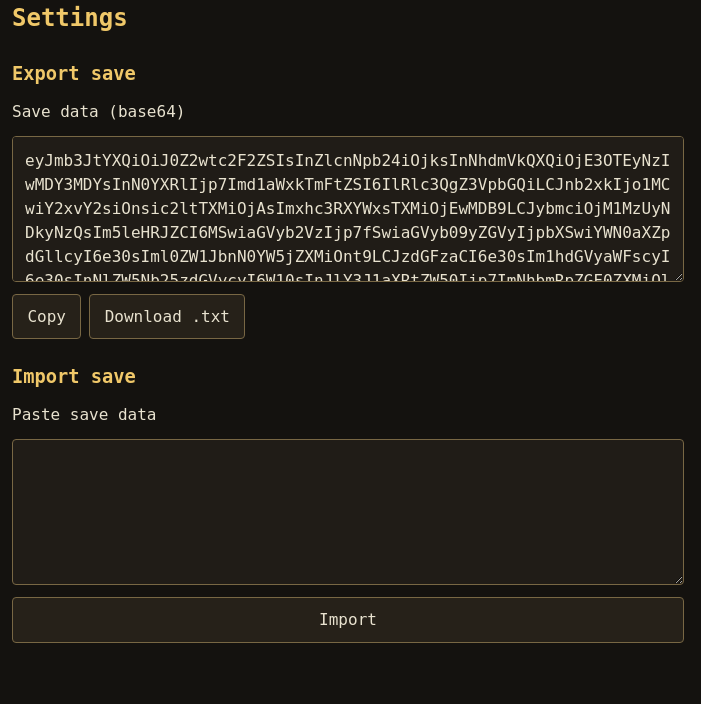
it: App › reports an invalid import without changing the current game
The width and height of the screenshot is (701, 704).
Type "invalid save" into the text box labelled "Paste save data". click: coordinates (348, 512)
box: [12,439,684,585]
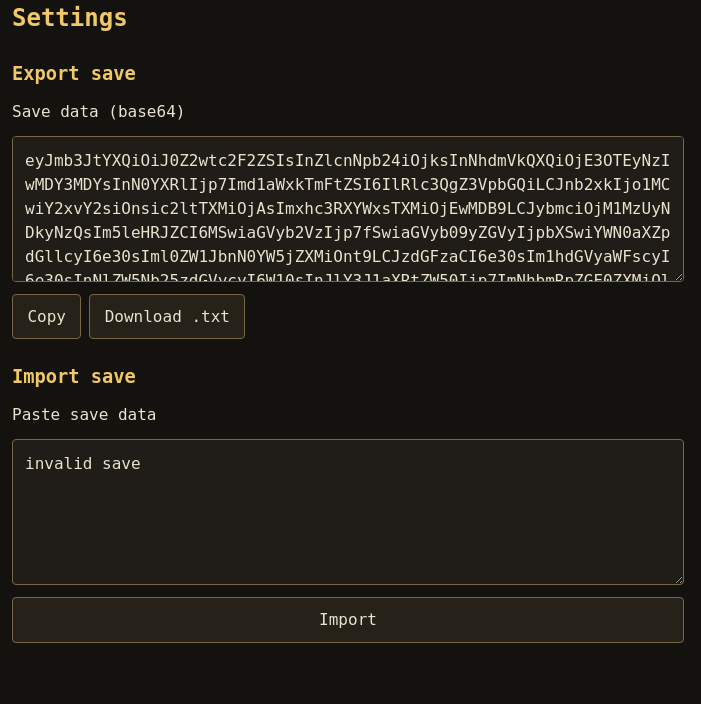
Click the button "Import". click: coordinates (348, 620)
box: [12,597,684,642]
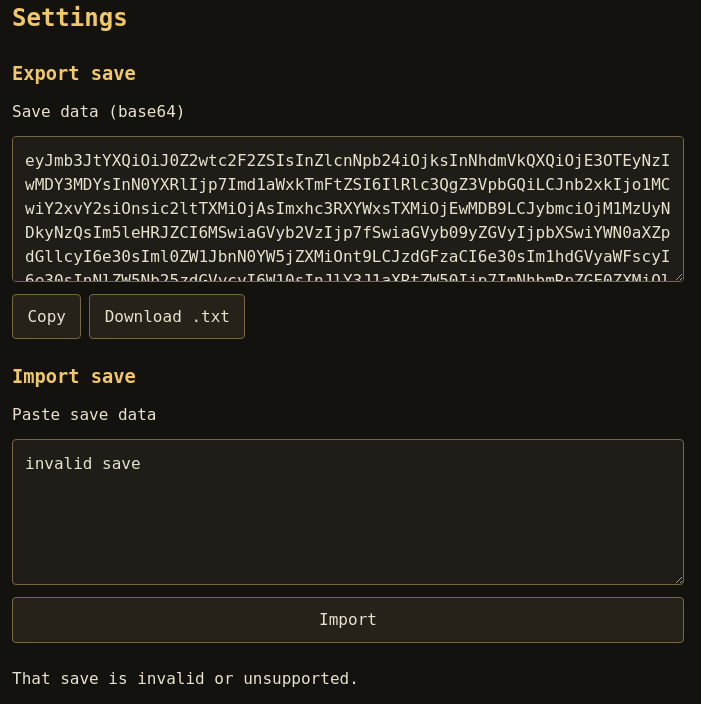
Expected: the message shows "invalid or unsupported", [12,668,359,688]
